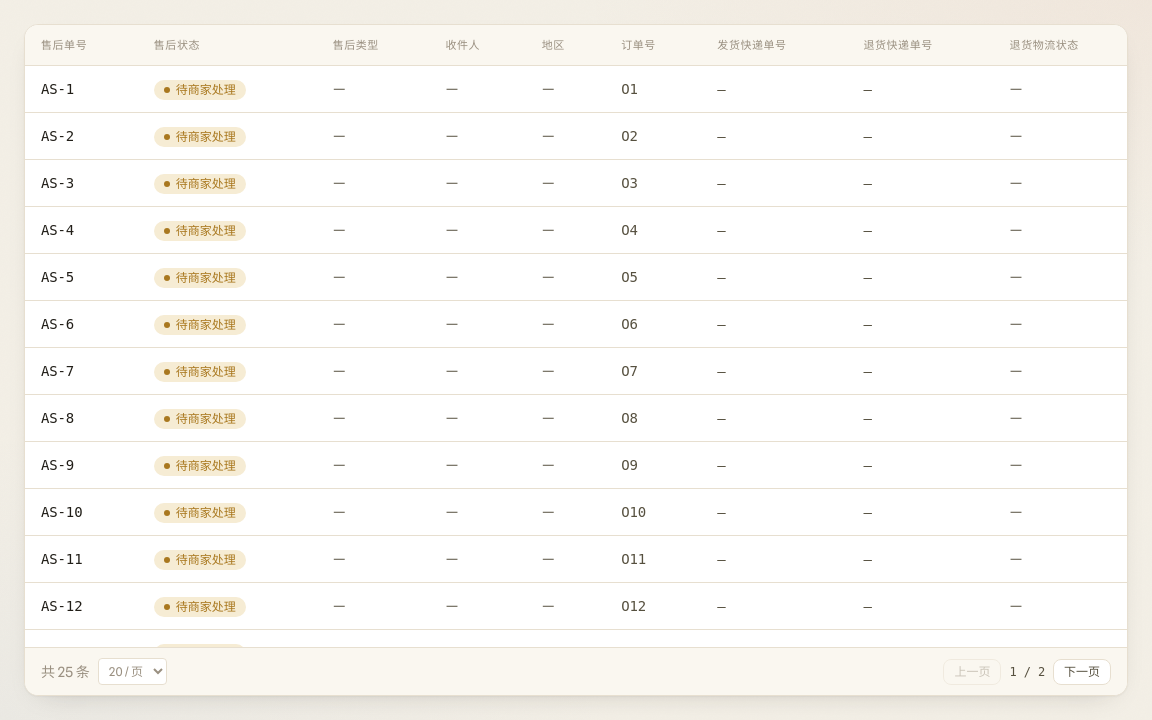
Test case: TicketTable › goes to the next page
What coordinates should you click on to do the following:
click the button "下一页"
I would click on:
 (1082, 672)
Its box is [1053,658,1111,684].
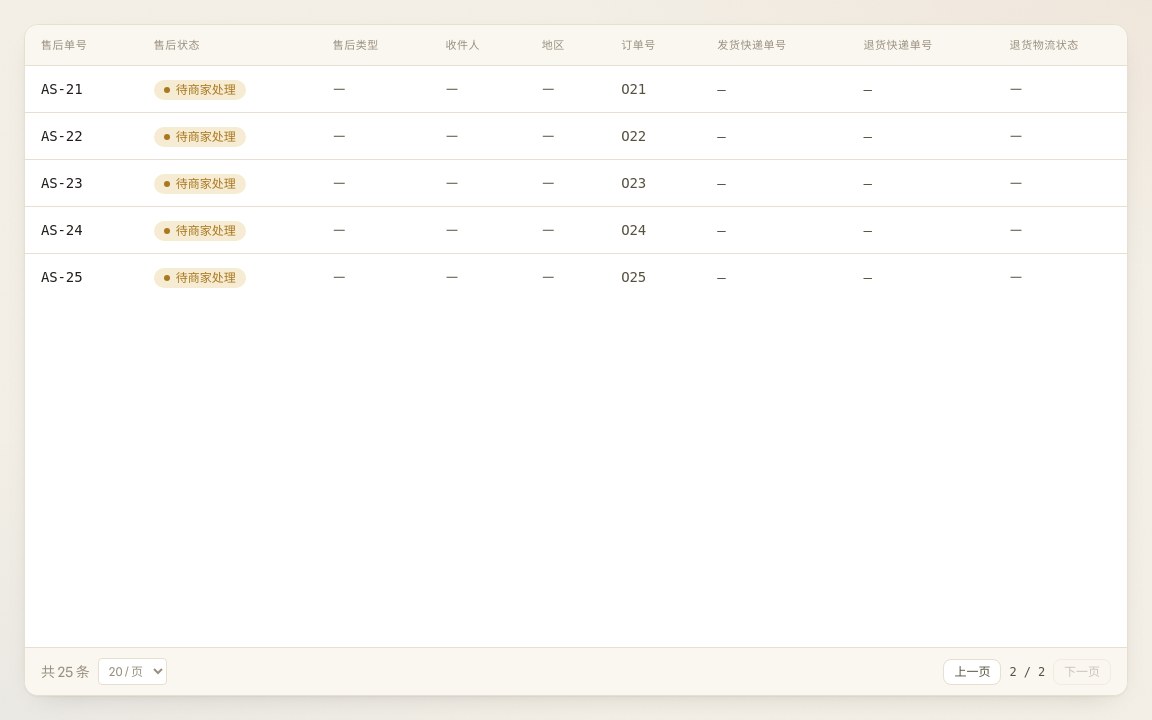
Expected: the number of rows is 6, [25,25,1127,66]; [25,66,1127,112]; [25,112,1127,160]; [25,160,1127,206]; [25,206,1127,254]; [25,254,1127,300]
Expected: the text "AS-21" is shown, [25,66,138,112]
